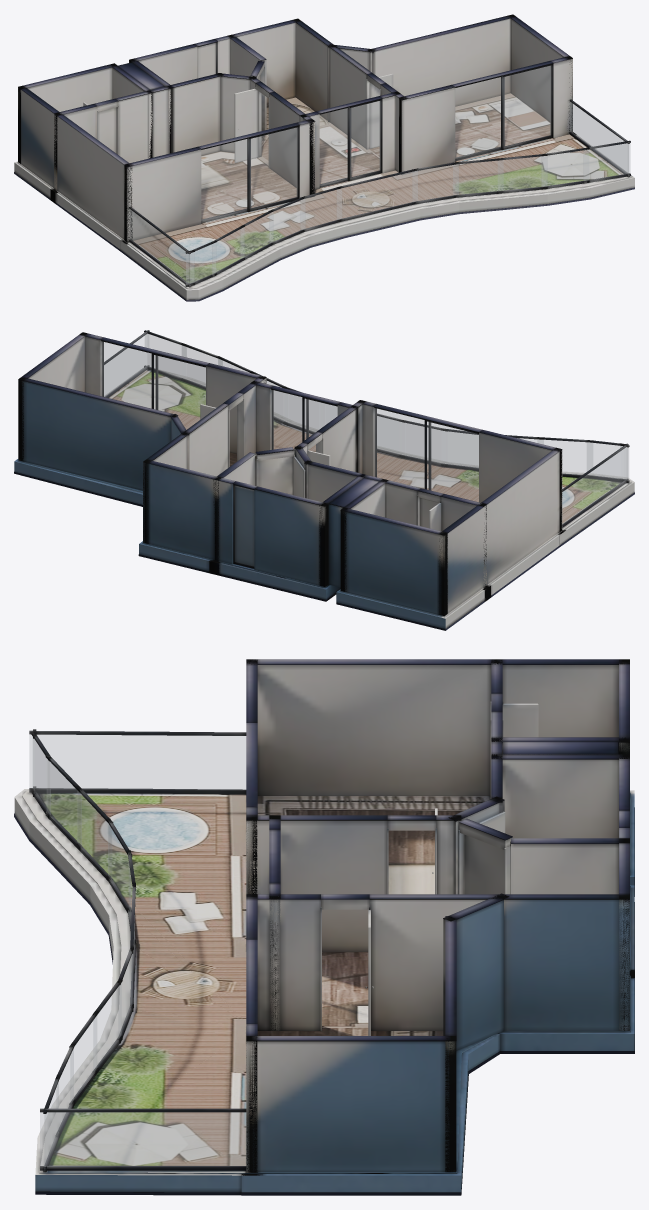
3 renders of one model, top to bottom at view 1: azimuth 30°, elevation 25°; view 2: azimuth 150°, elevation 25°; view 3: azimuth 270°, elevation 25°, orthographic. The views are drawn at different scales.
Visible parts, largest first — view 1: plan, glass2_m, glass0_m, glass1_m, railg6_m, railg13_m, railg0_m, railg5_m, railg4_m, railg3_m, railg2_m, railg1_m (+5 smaller); view 2: plan, glass0_m, glass2_m, glass1_m, railg13_m, glass3_m, railg0_m, railg10_m, railg8_m, railg11_m, railg7_m, railg6_m (+3 smaller); view 3: plan, railg0_m, railg13_m, railg10_m, railg9_m, railg5_m, railg4_m, railg8_m, railg11_m, railg3_m, railg1_m.
Part boxes in pixels (<box>): plan: <box>14,14,634,301</box>; glass2_m: <box>455,66,550,158</box>; glass0_m: <box>201,128,297,220</box>; glass1_m: <box>320,101,380,185</box>; railg6_m: <box>337,171,417,219</box>; railg13_m: <box>130,209,189,284</box>; railg0_m: <box>570,102,628,174</box>; railg5_m: <box>453,160,503,195</box>; railg4_m: <box>498,156,547,191</box>; railg3_m: <box>541,150,588,186</box>; railg2_m: <box>583,143,630,180</box>; railg1_m: <box>412,164,458,201</box>; plan: <box>14,330,634,630</box>; glass0_m: <box>375,408,478,501</box>; glass2_m: <box>102,342,205,429</box>; glass1_m: <box>272,390,337,451</box>; railg13_m: <box>562,447,627,524</box>; glass3_m: <box>235,486,253,565</box>; railg0_m: <box>104,334,148,396</box>; railg10_m: <box>537,439,592,474</box>; railg8_m: <box>448,432,478,467</box>; railg11_m: <box>587,442,622,478</box>; railg7_m: <box>406,423,447,464</box>; railg6_m: <box>320,403,399,453</box>; plan: <box>14,659,634,1195</box>; railg0_m: <box>40,1112,245,1166</box>; railg13_m: <box>29,734,245,789</box>; railg10_m: <box>47,759,81,846</box>; railg9_m: <box>77,791,111,878</box>; railg5_m: <box>93,983,121,1071</box>; railg4_m: <box>71,1016,96,1102</box>; railg8_m: <box>108,824,130,910</box>; railg11_m: <box>33,739,50,815</box>; railg3_m: <box>56,1049,73,1129</box>; railg1_m: <box>118,954,132,1039</box>.
Bounding box in the file's own units: 14.24 × 2.62 × 9.66.
2 materials, 1 textured.
